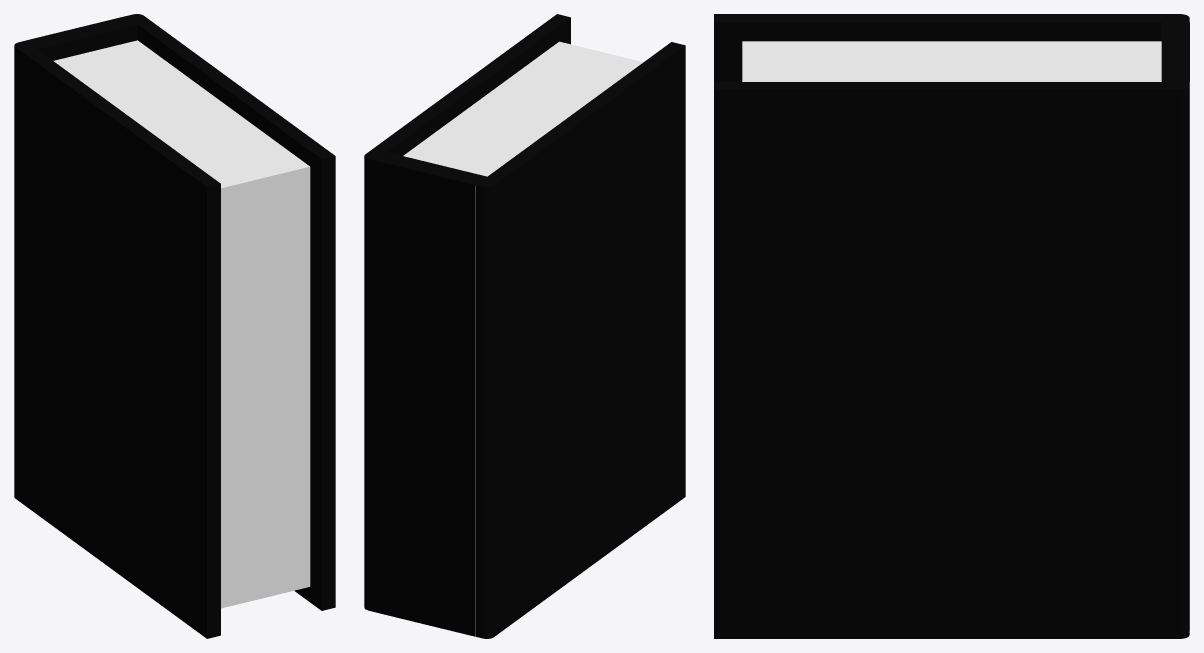
The model's file is book1.fbx.
3 renders of one model, left to right at view 1: azimuth 30°, elevation 25°; view 2: azimuth 150°, elevation 25°; view 3: azimuth 270°, elevation 25°, orthographic. The views are drawn at different scales.
Visible parts, largest first — view 1: pCube1; view 2: pCube1; view 3: pCube1.
Boxes of the visible parts, x1,y1,x2,y2 form: pCube1: (14, 14, 335, 638); pCube1: (364, 14, 685, 638); pCube1: (714, 14, 1189, 638).
Bounding box in the file's own units: 0.5398 × 1.81 × 1.43.
